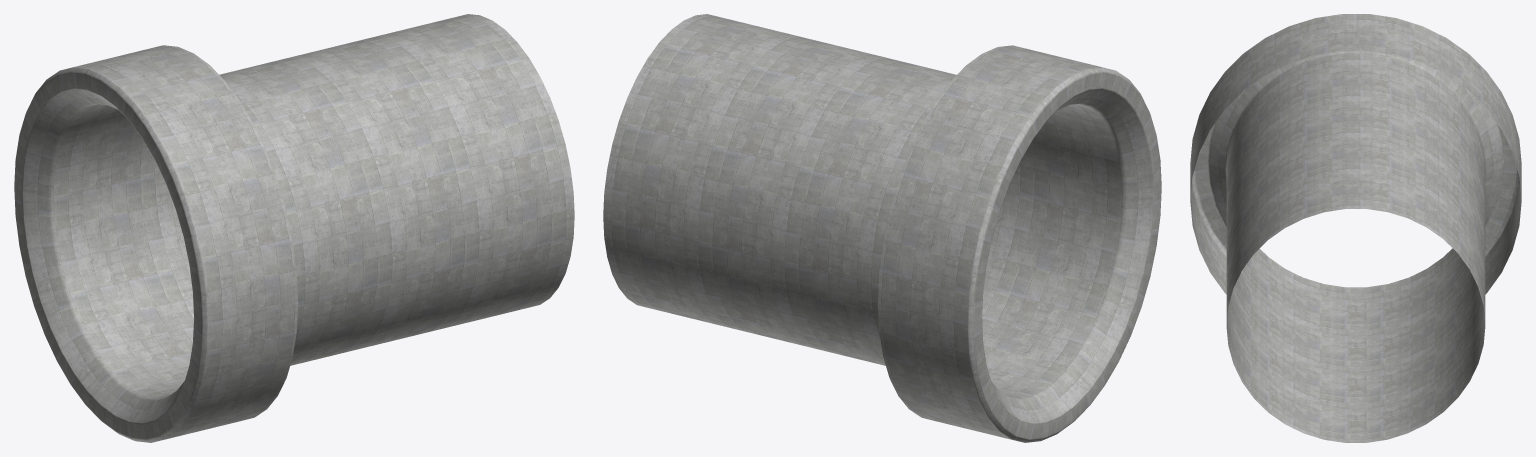
Rendered from tunnel_3m_segment_Pipe 1.fbx.
The picture shows the model from 3 angles, left to right: view 1: azimuth 30°, elevation 25°; view 2: azimuth 150°, elevation 25°; view 3: azimuth 270°, elevation 25°; orthographic projection. The views are drawn at different scales.
Parts seen in each view (by area): view 1: tunnel_3m_segment_Pipe; view 2: tunnel_3m_segment_Pipe; view 3: tunnel_3m_segment_Pipe.
Part boxes in pixels (x1=…): tunnel_3m_segment_Pipe: x1=14, y1=14, x2=574, y2=442; tunnel_3m_segment_Pipe: x1=603, y1=14, x2=1161, y2=442; tunnel_3m_segment_Pipe: x1=1190, y1=14, x2=1521, y2=442.
Bounding box in the file's own units: 902 × 765 × 768.
1 material, 1 textured.
